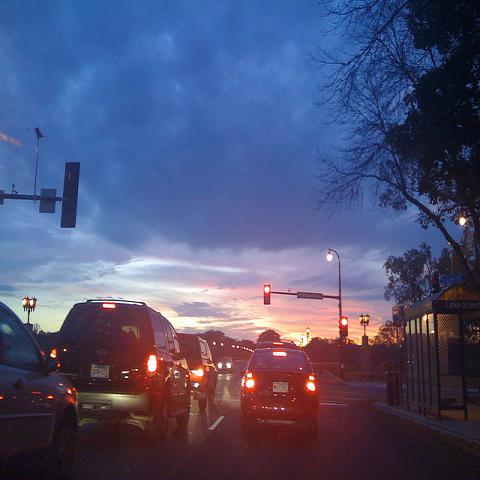car: (47, 298, 192, 435), (0, 298, 80, 479), (241, 349, 318, 432), (175, 332, 218, 411), (217, 356, 233, 374)
